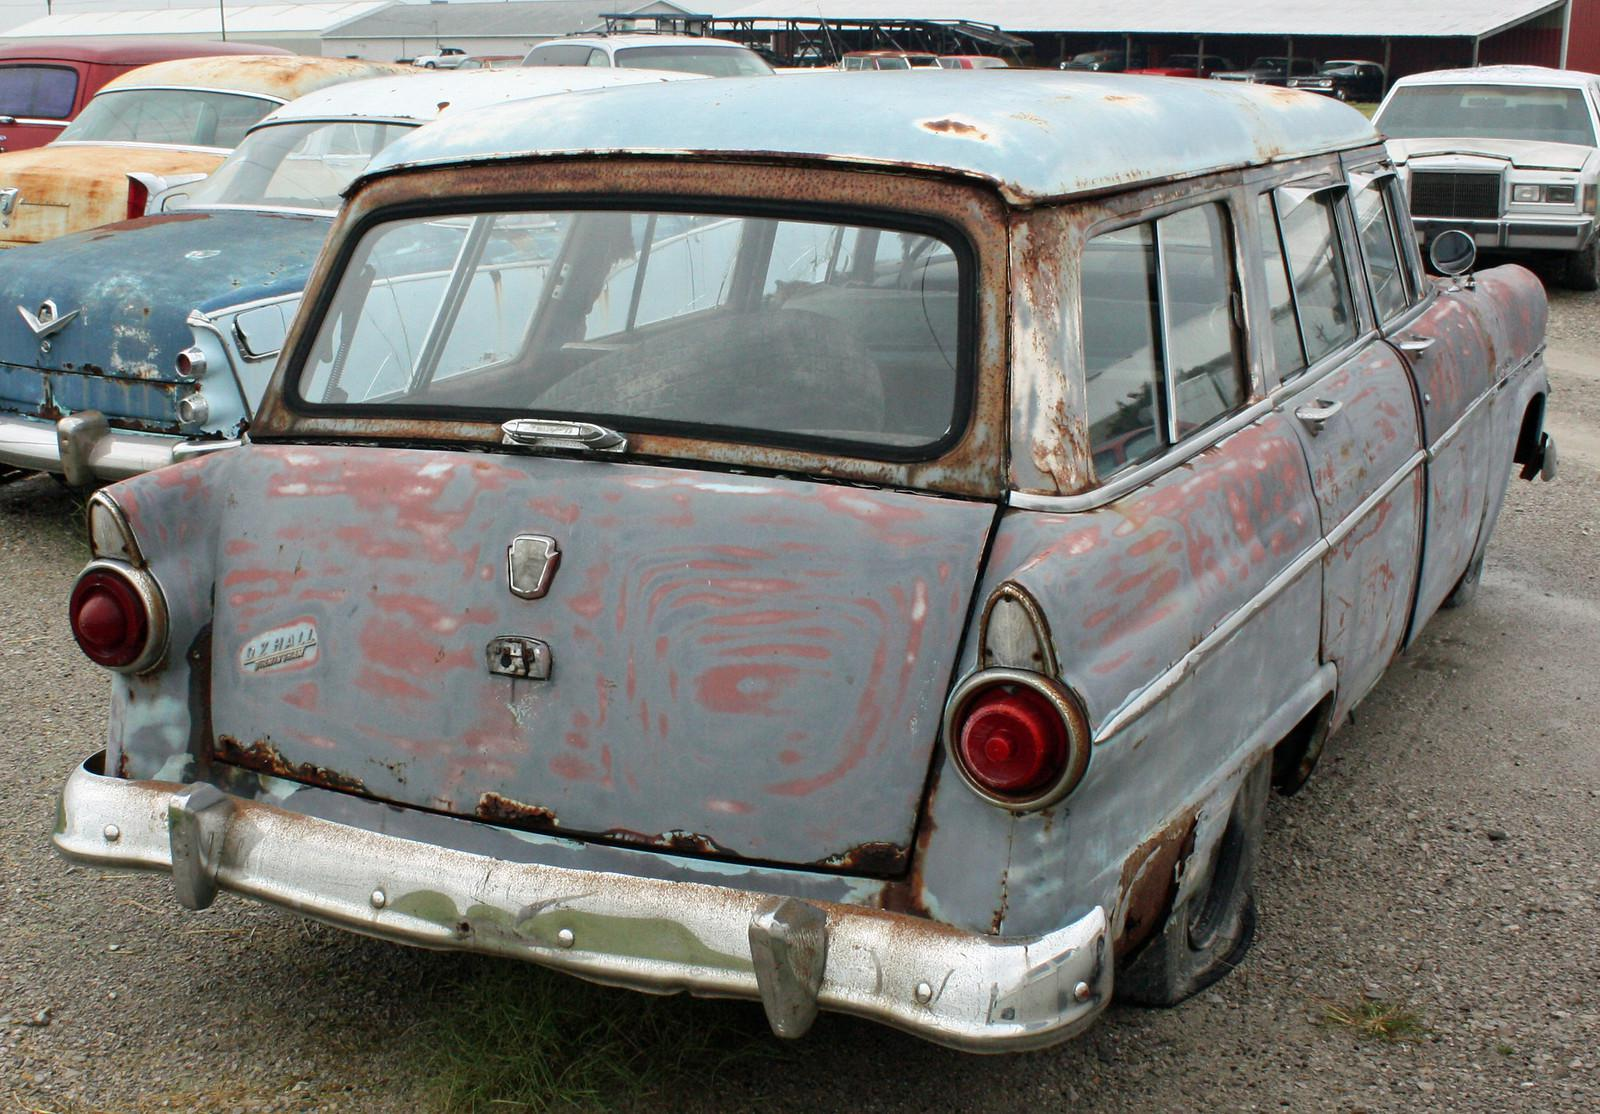rear-bumper-dent: (116, 767, 937, 975)
